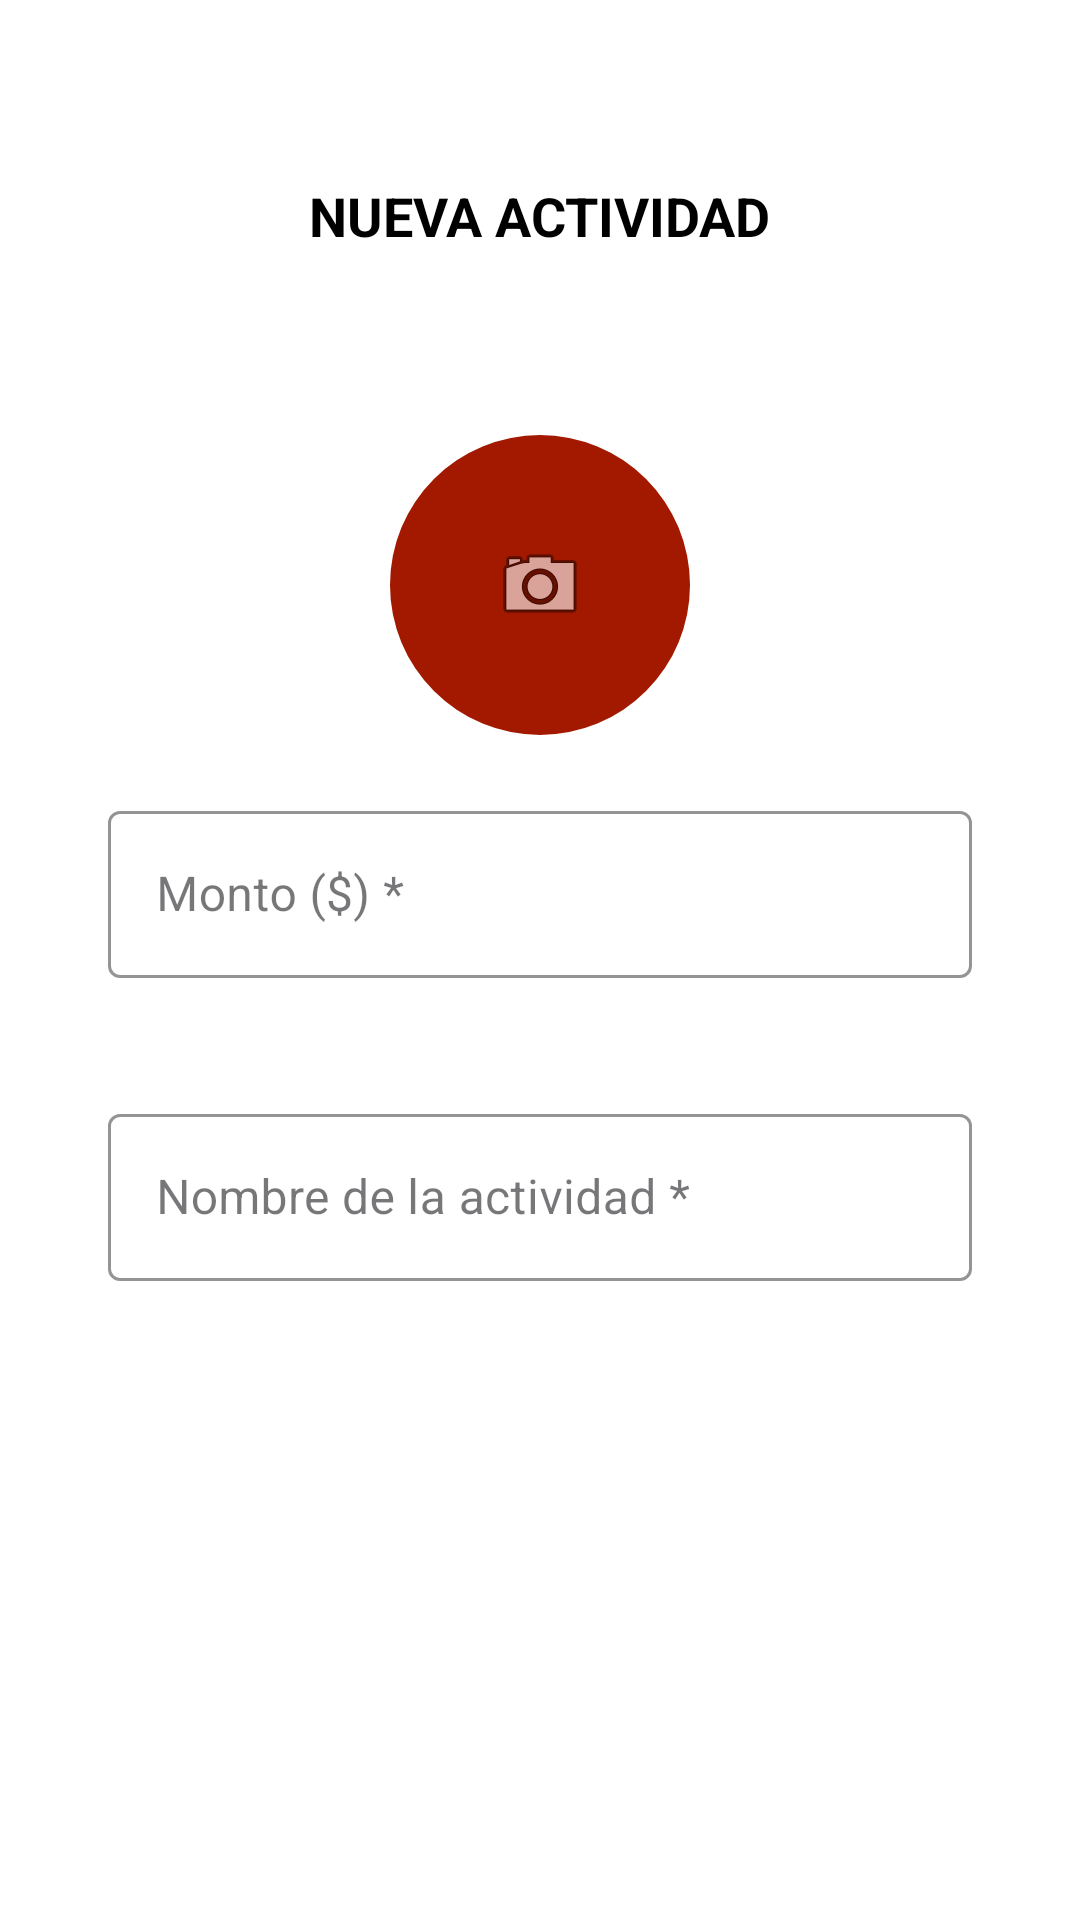

Screen size 1080*1920. Icon name, then its center in pixels as point (x, y):
Seleccionar foto de actividad: point (540, 585)
